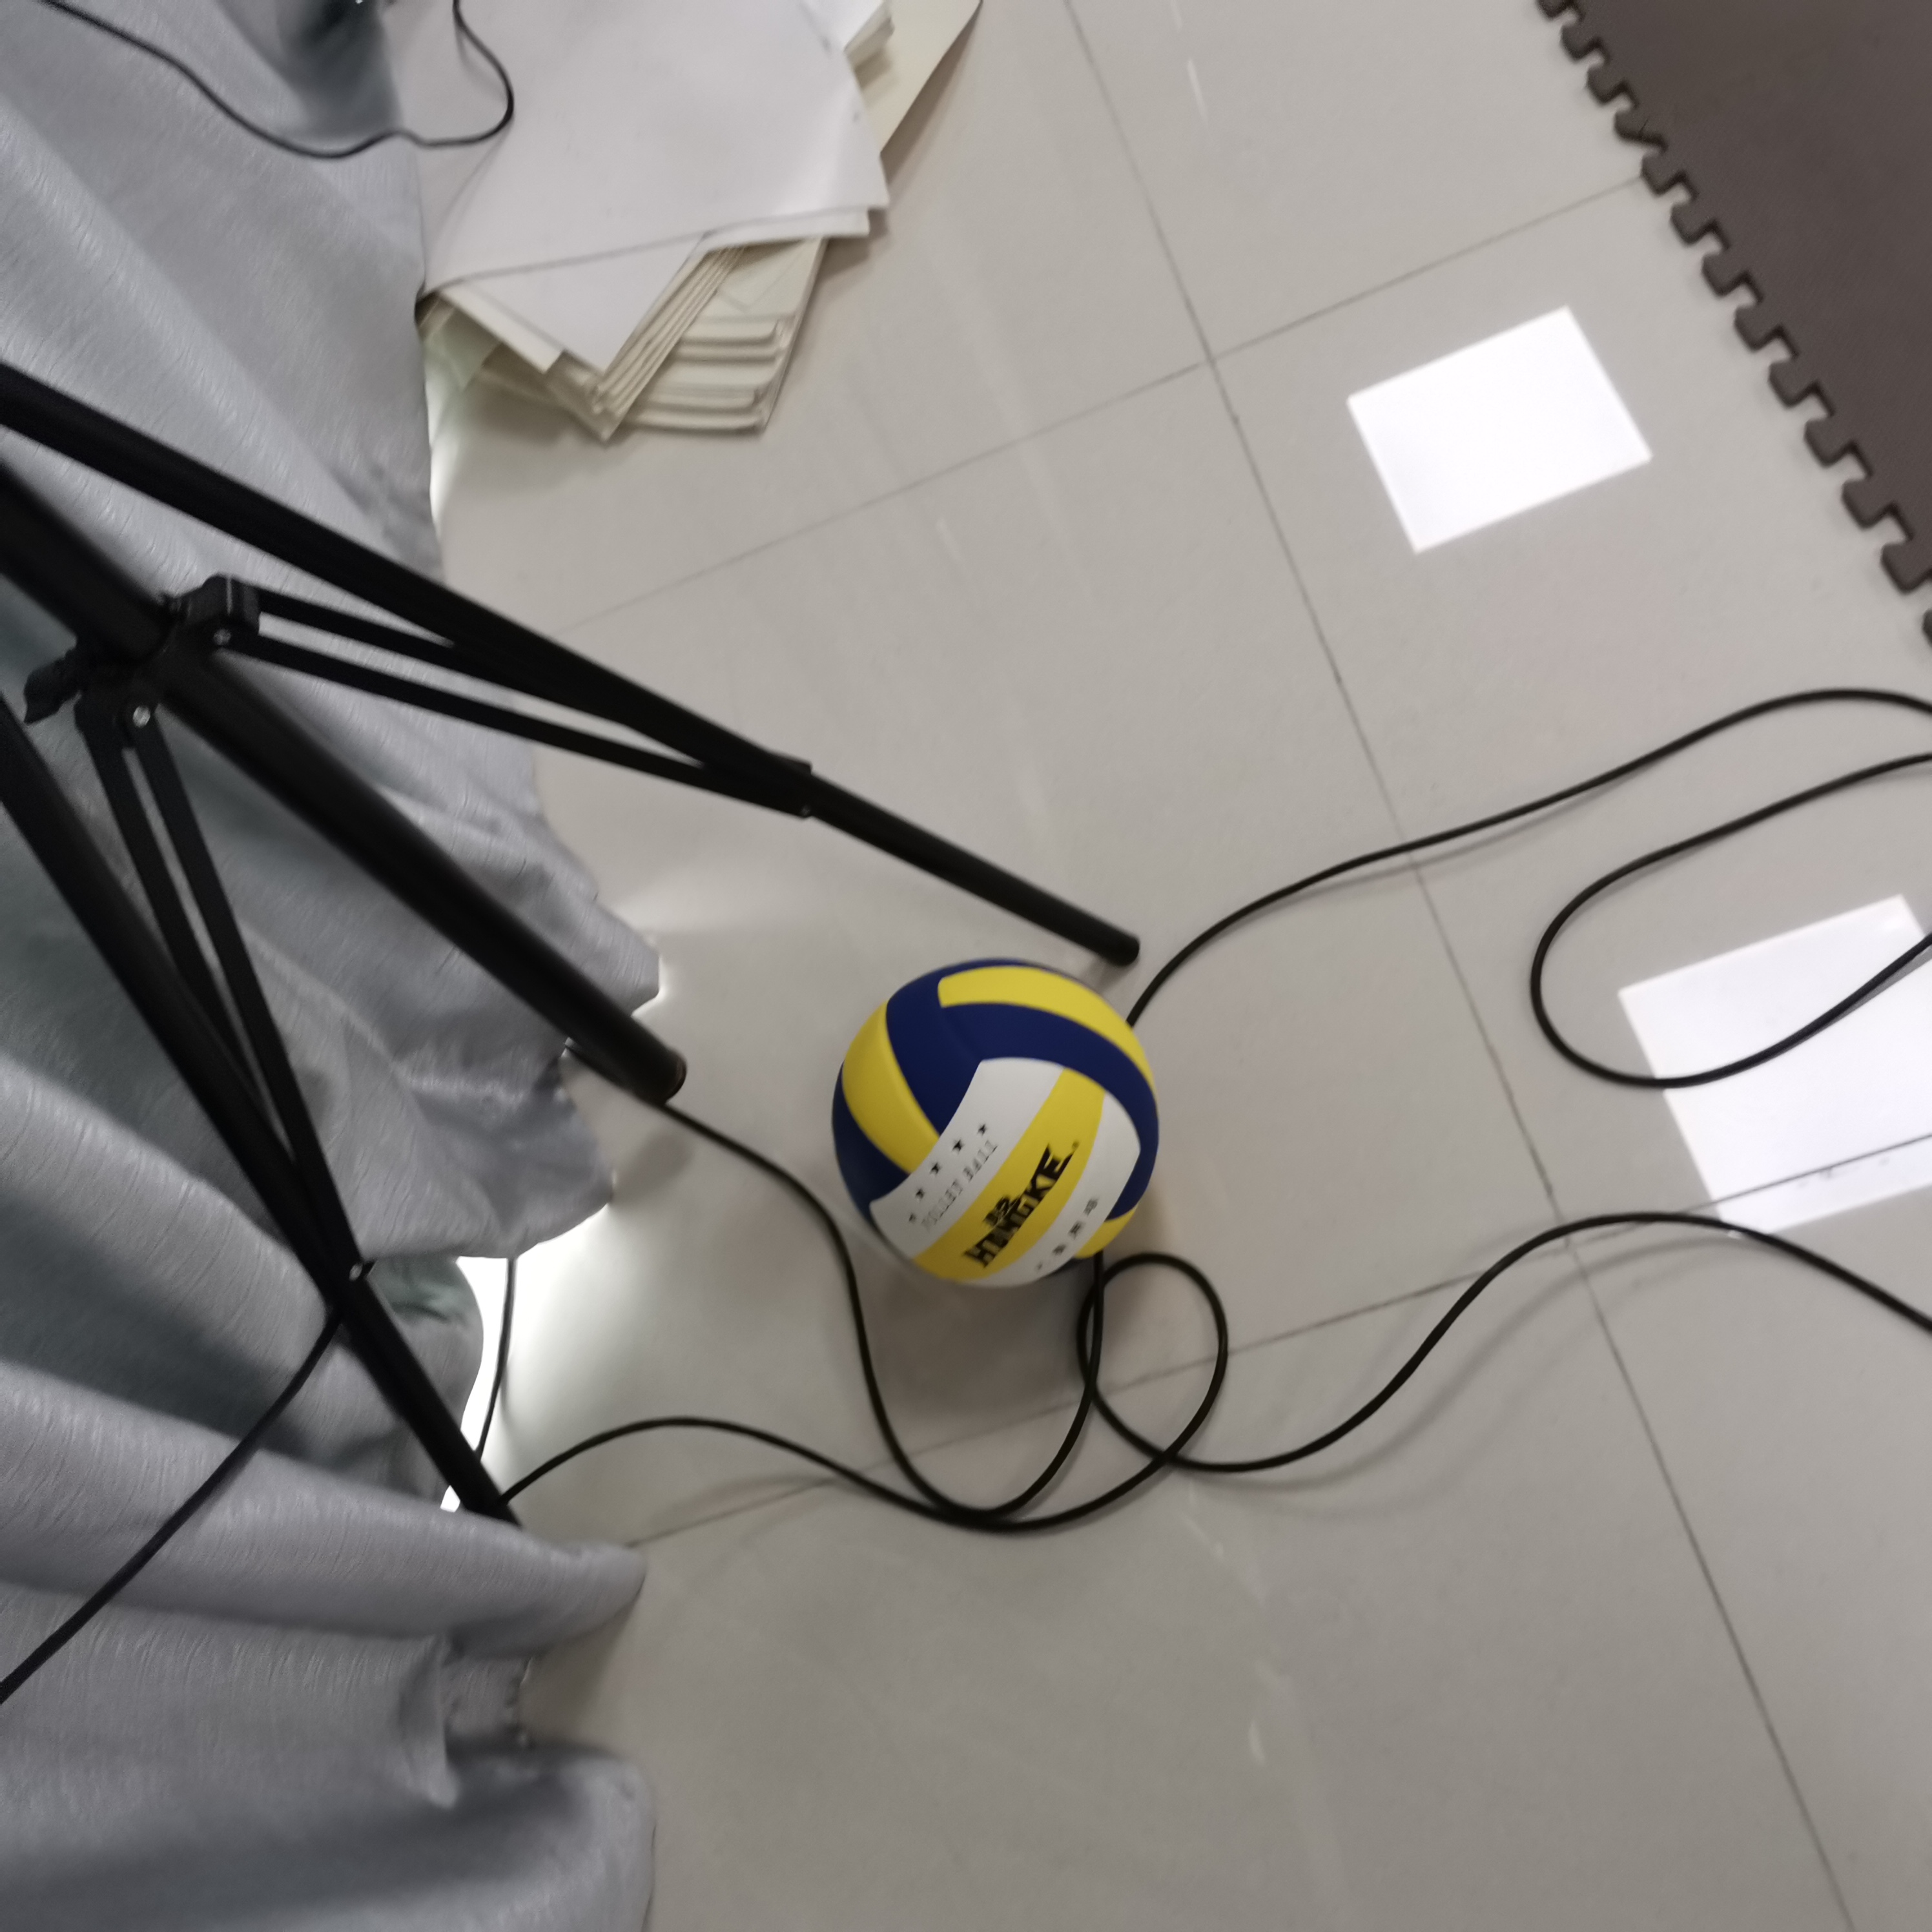volleyball: (828, 952, 1164, 1297)
